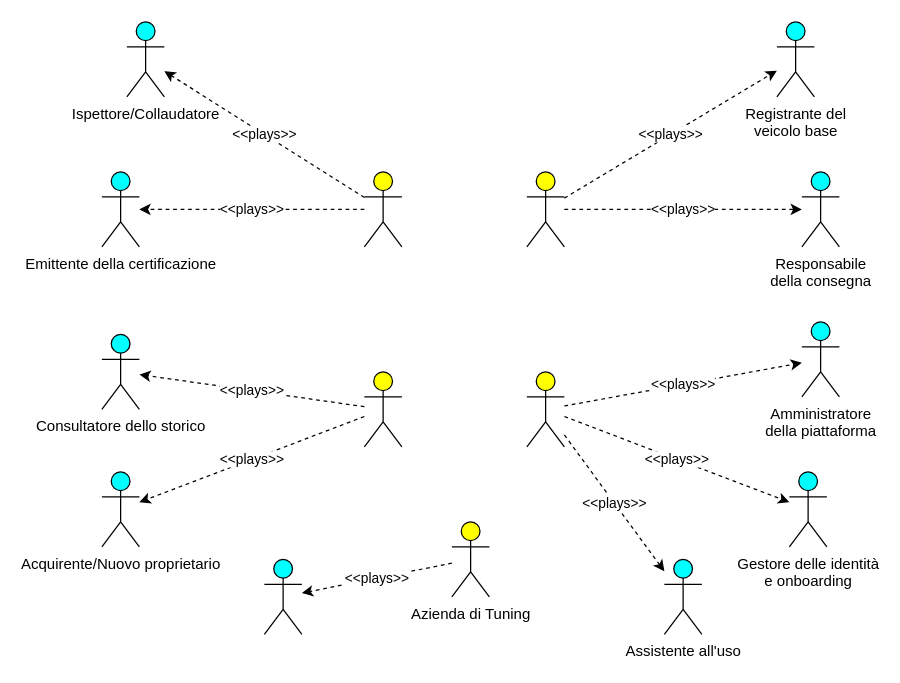
This 900x683 diagram has some shape labels left out. The shapes that lost their labels are listed below. From the top down, each one's centre as x and y in pixels, then its label:
point (382, 209): Centro di Certificazione
point (545, 209): Concessionaria
point (382, 409): Cliente Privato
point (545, 409): Intermediario
point (282, 596): Esecutore della modifica
